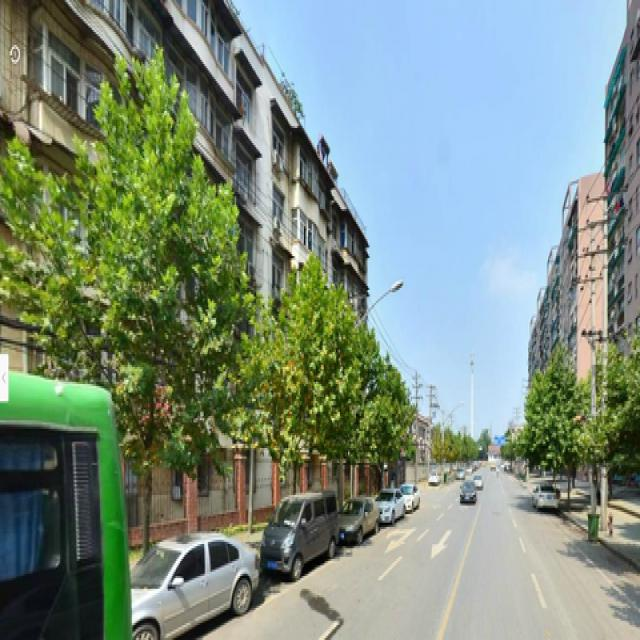meta: (86, 92, 230, 557), (276, 260, 331, 499)
